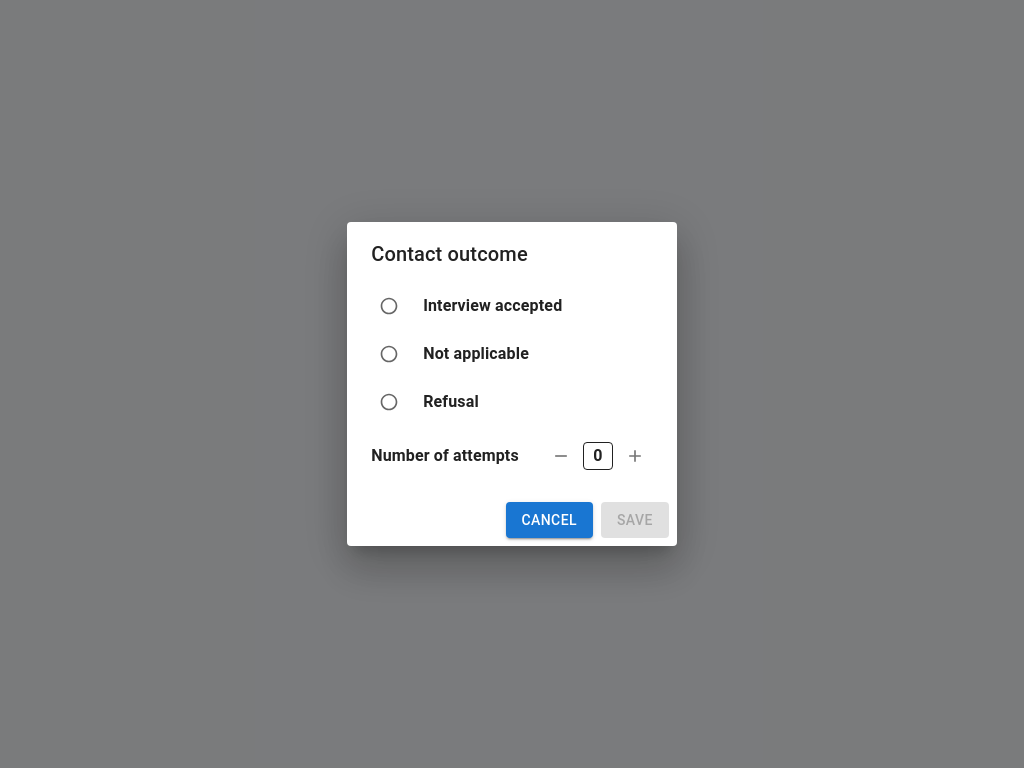
Scenario: ContactOutcomeForm › enables save for NOT_APPLICABLE even with a zero attempt count
This screenshot has width=1024, height=768.
Click the radio button labelled "Not applicable" at x=454, y=354, box [379,344,529,364]
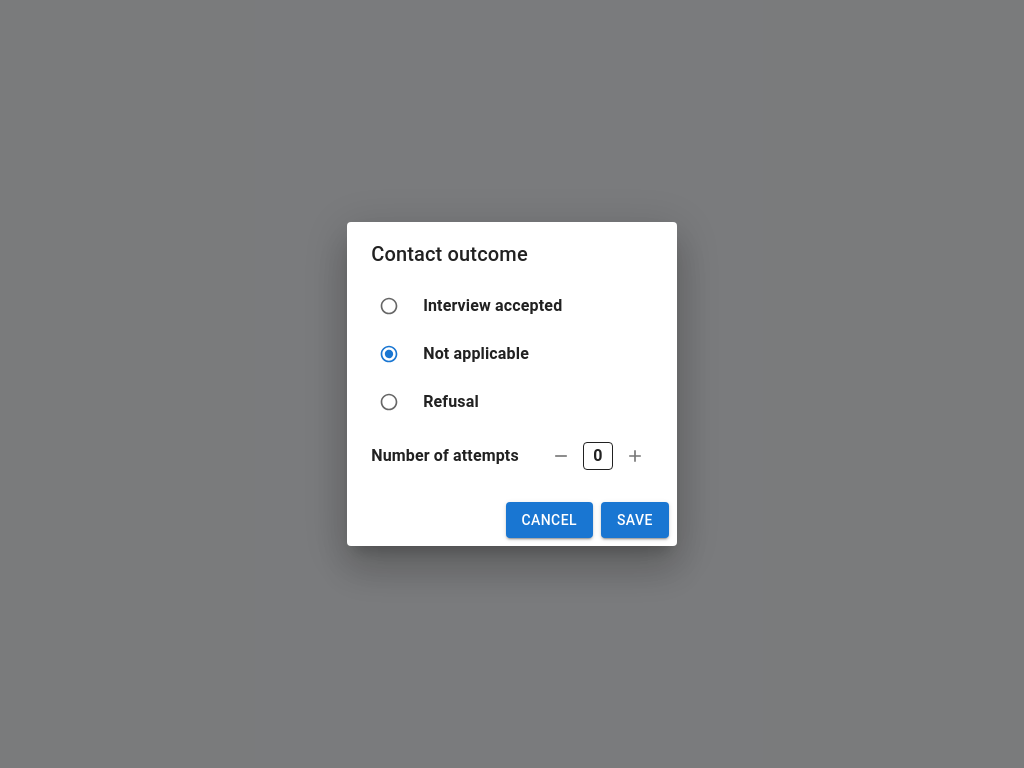
Result: the button "Save" is enabled at [601,502,669,538]
